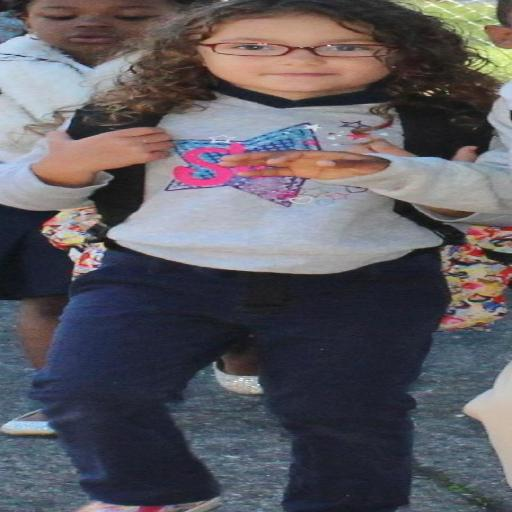person: (0, 0, 509, 511), (0, 0, 180, 161), (464, 364, 511, 485)
